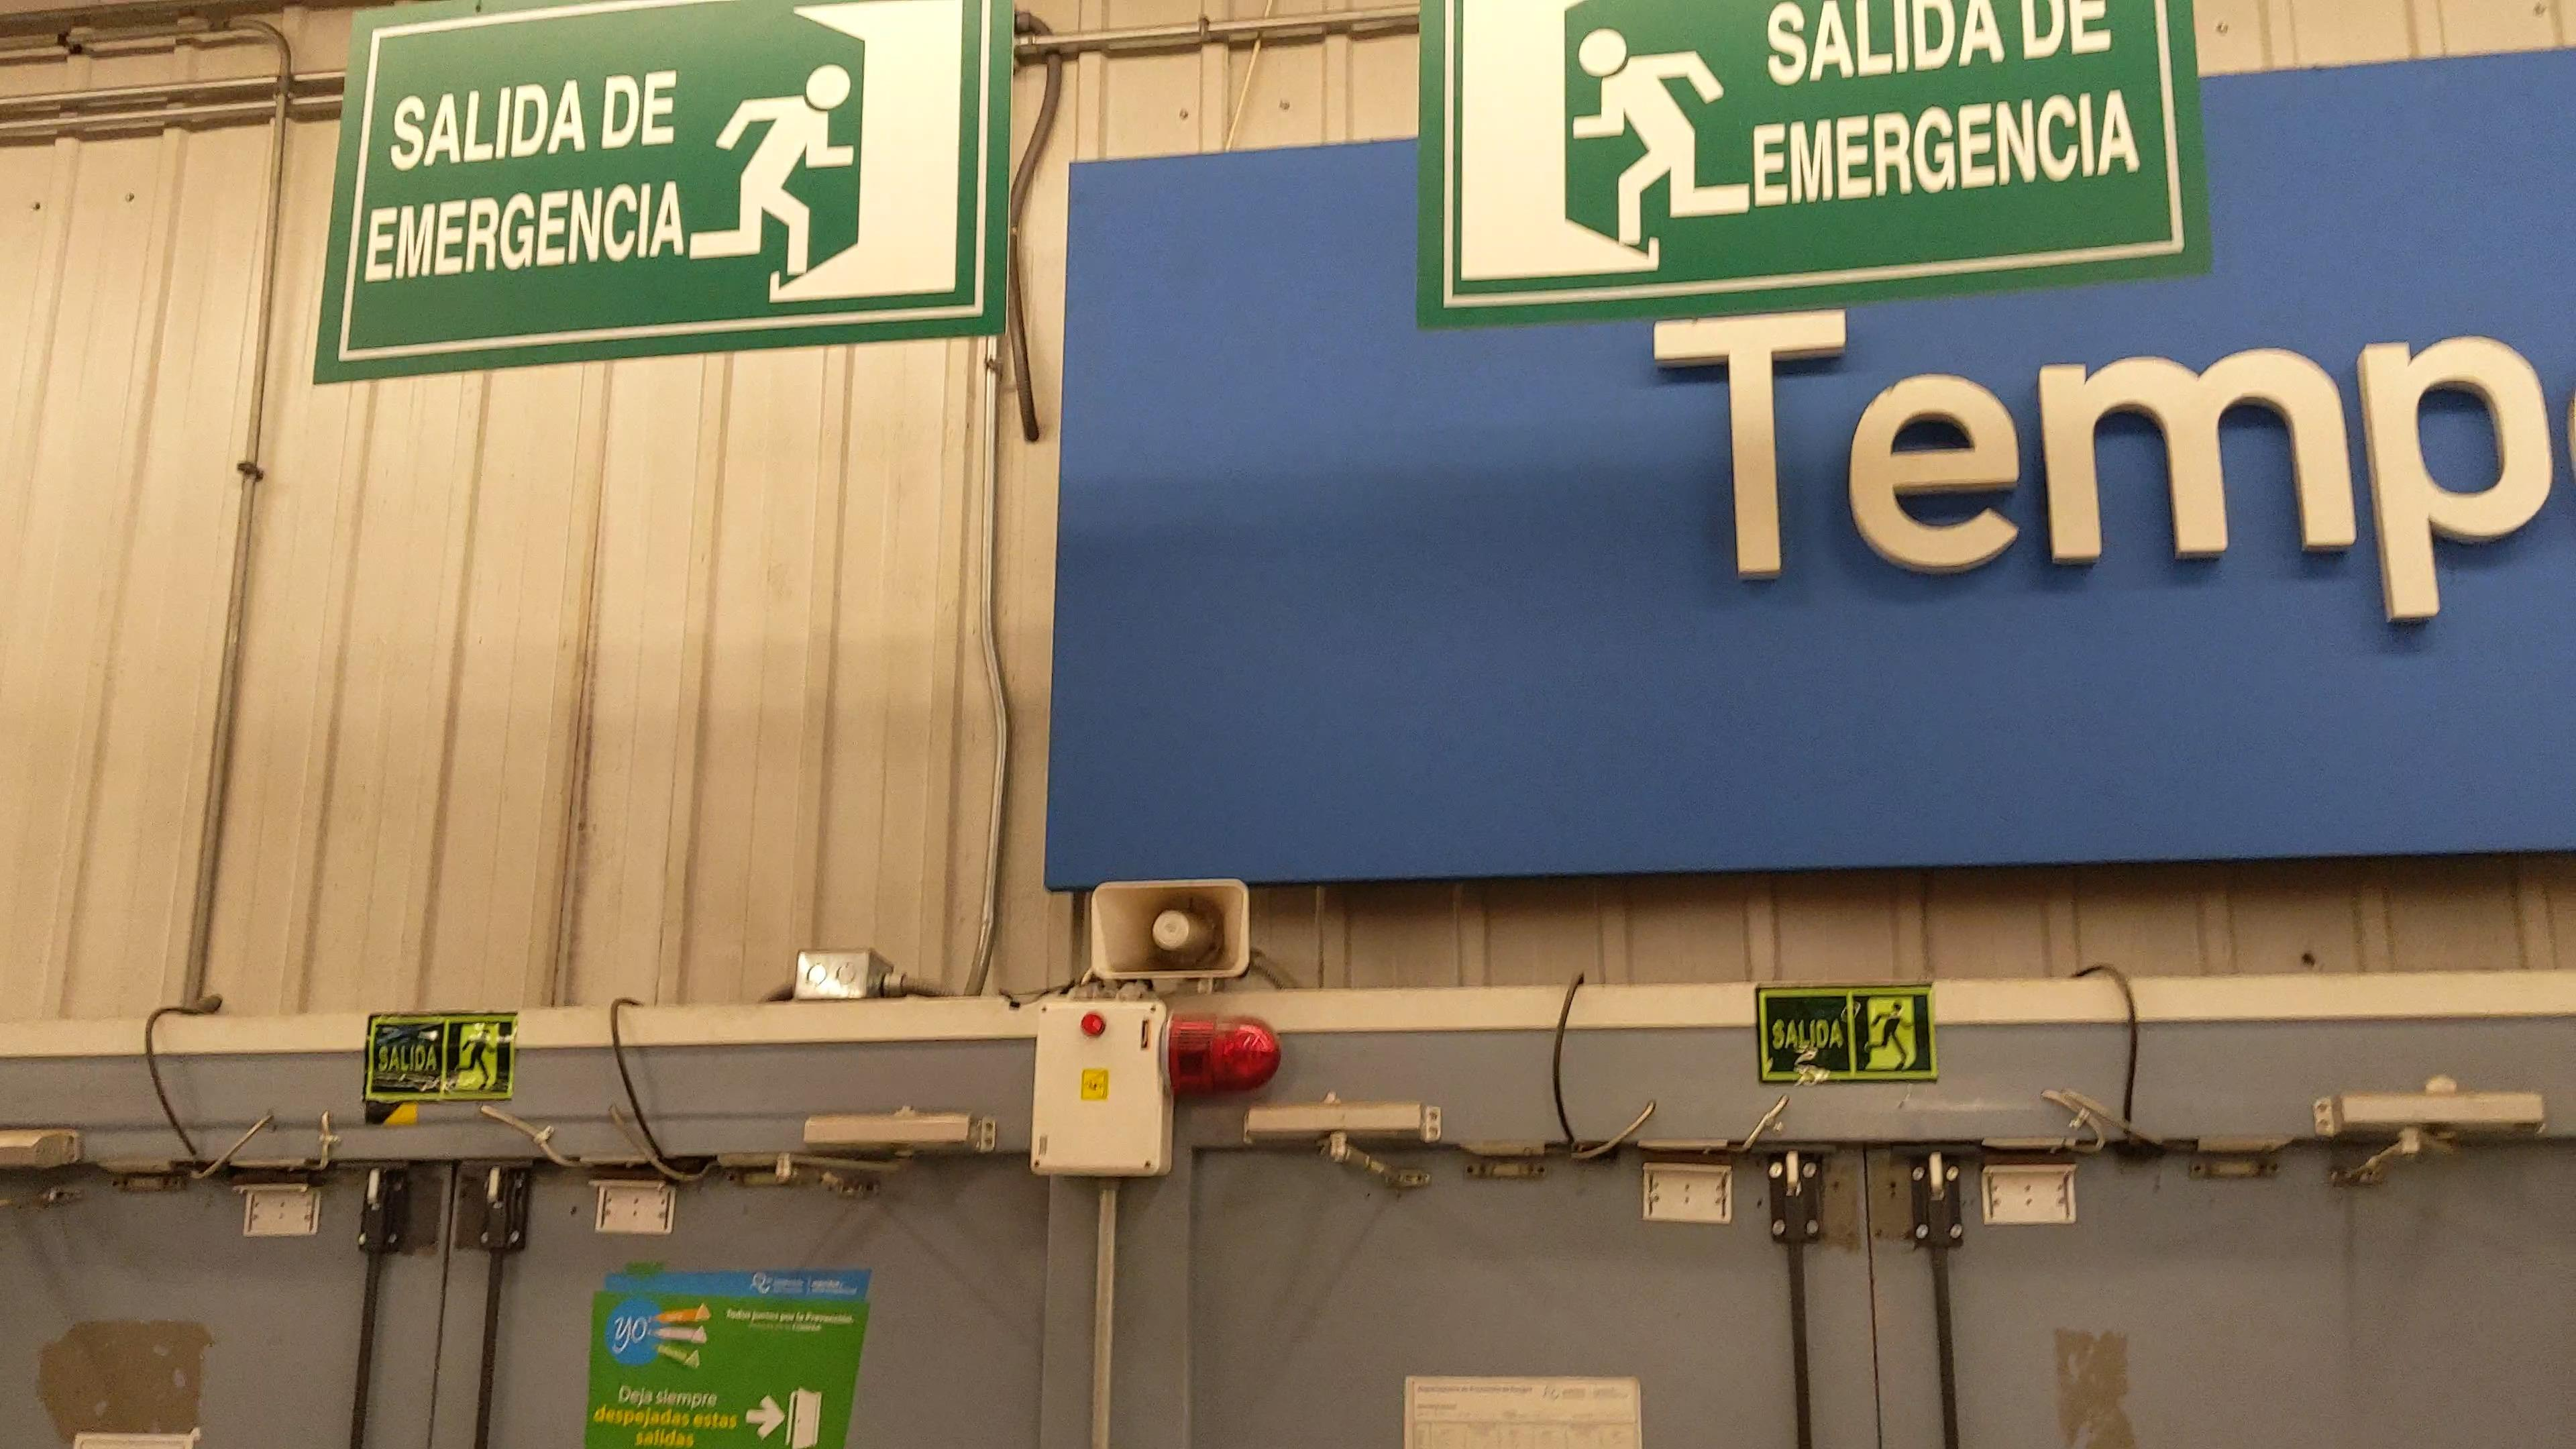emergency exit: (1562, 28, 1757, 257), (686, 58, 867, 290), (1859, 994, 1921, 1076), (455, 1023, 497, 1093)
emergency right arrow: (741, 1391, 787, 1442)
